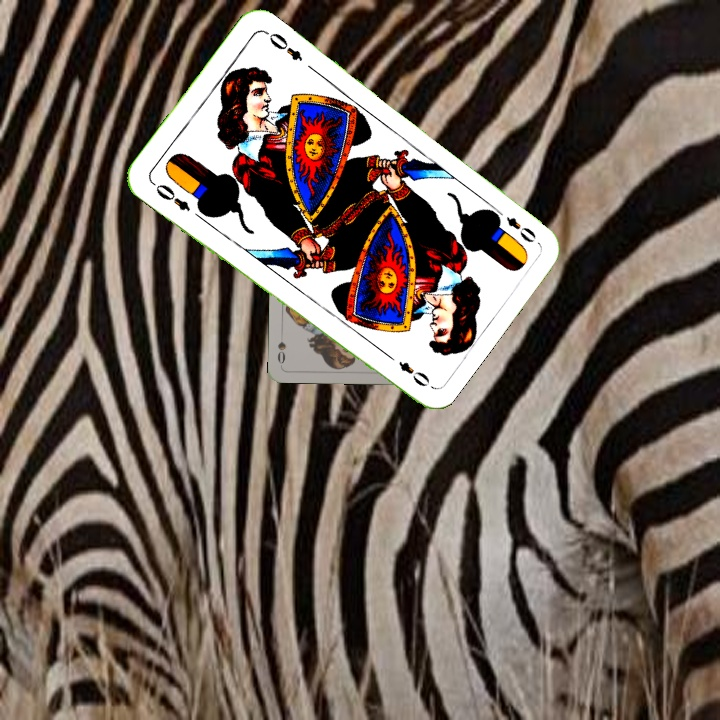EO: (489, 203, 539, 246), (147, 177, 193, 214)
